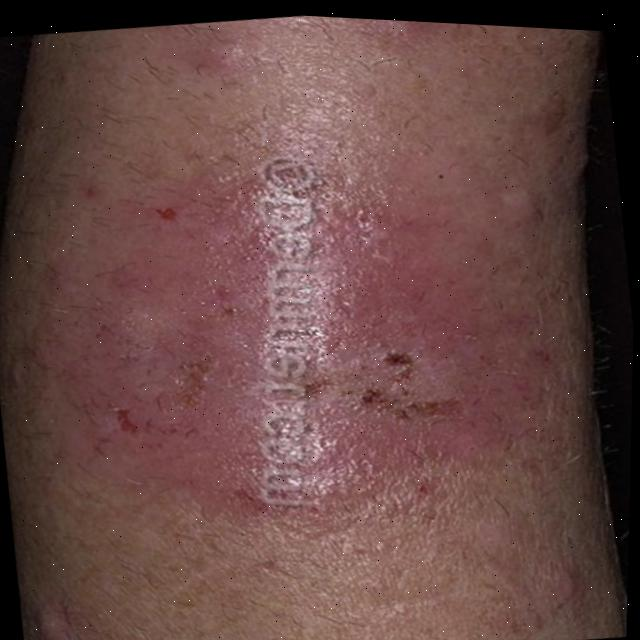Eczema: (11, 33, 604, 565)
